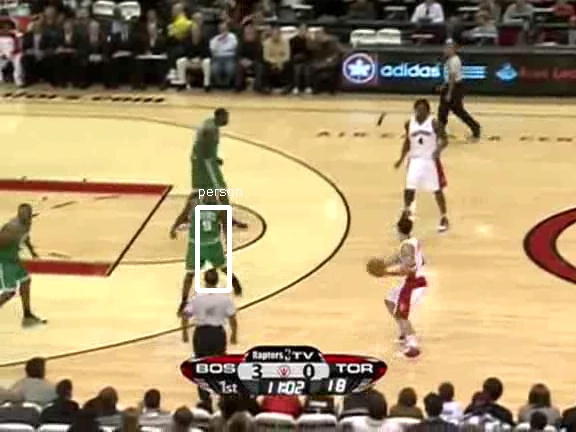person: (190, 193, 224, 274), (189, 193, 223, 274), (191, 193, 225, 274), (190, 192, 224, 273), (190, 194, 224, 275)
target_negative: (25, 133, 476, 281), (159, 263, 267, 306), (542, 112, 564, 294), (449, 259, 471, 377), (414, 77, 420, 259), (374, 380, 406, 392)
